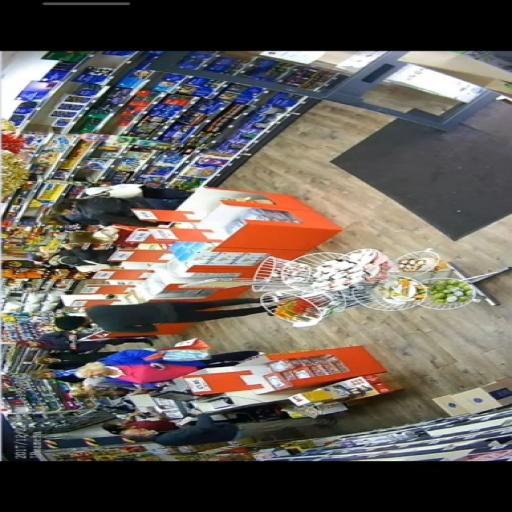workers: (53, 296, 287, 332), (32, 347, 260, 379), (73, 355, 263, 388), (101, 406, 284, 433), (101, 420, 241, 450), (52, 198, 184, 228), (64, 382, 208, 409), (26, 329, 154, 355), (33, 244, 125, 272), (72, 181, 192, 201), (68, 224, 128, 250)
